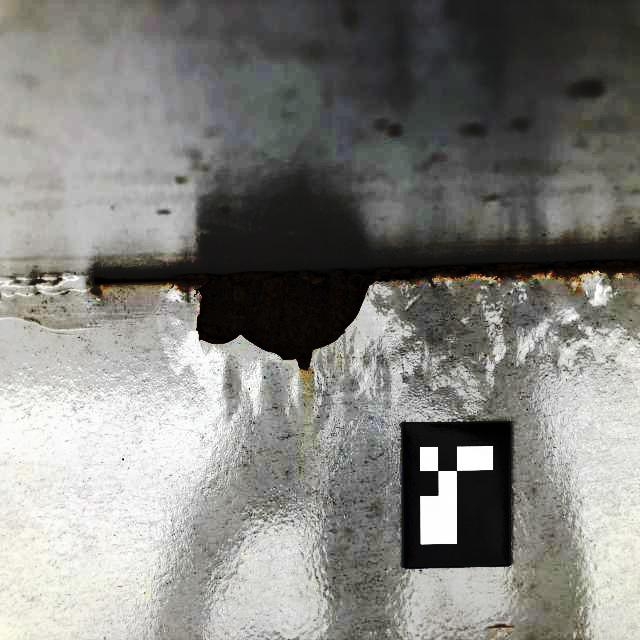Corrosion: (170, 260, 640, 370)
